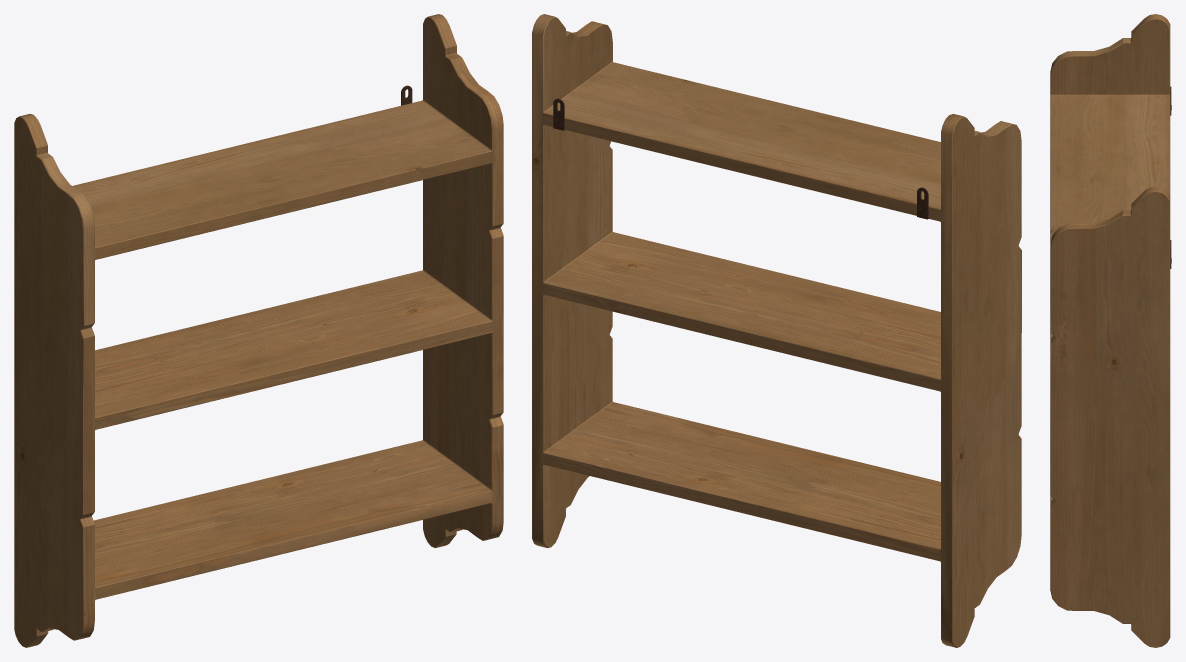
Rendered from W29 - 827000 - Sketchfab - mesh.obj.
3 renders of one model, left to right at view 1: azimuth 30°, elevation 25°; view 2: azimuth 150°, elevation 25°; view 3: azimuth 270°, elevation 25°, orthographic. The views are drawn at different scales.
Parts seen in each view (by area): view 1: 8270.woodb; view 2: 8270.woodb, 8270.metal; view 3: 8270.woodb.
Part boxes in pixels (box(x1,y1,x2,y2)): 8270.woodb: box(14, 14, 503, 647); 8270.woodb: box(532, 14, 1021, 647); 8270.metal: box(553, 98, 928, 219); 8270.woodb: box(1050, 14, 1170, 647).
Size of the model in its own units: 70 by 84.08 by 20.25.
Materials: 2 (1 with a texture image).
